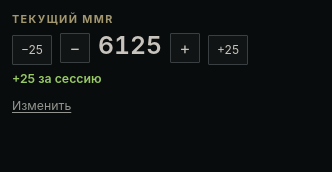
Test: CurrentMmrControl › nudges Current MMR up by 25 through the compact stepper
Click the button named "Увеличить MMR на 25". click: (228, 50)
box: [208,35,248,65]
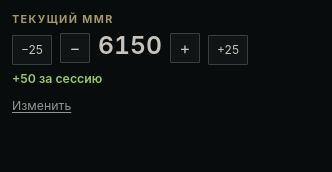
Now the text "6150" is shown, box [98,33,162,58]
